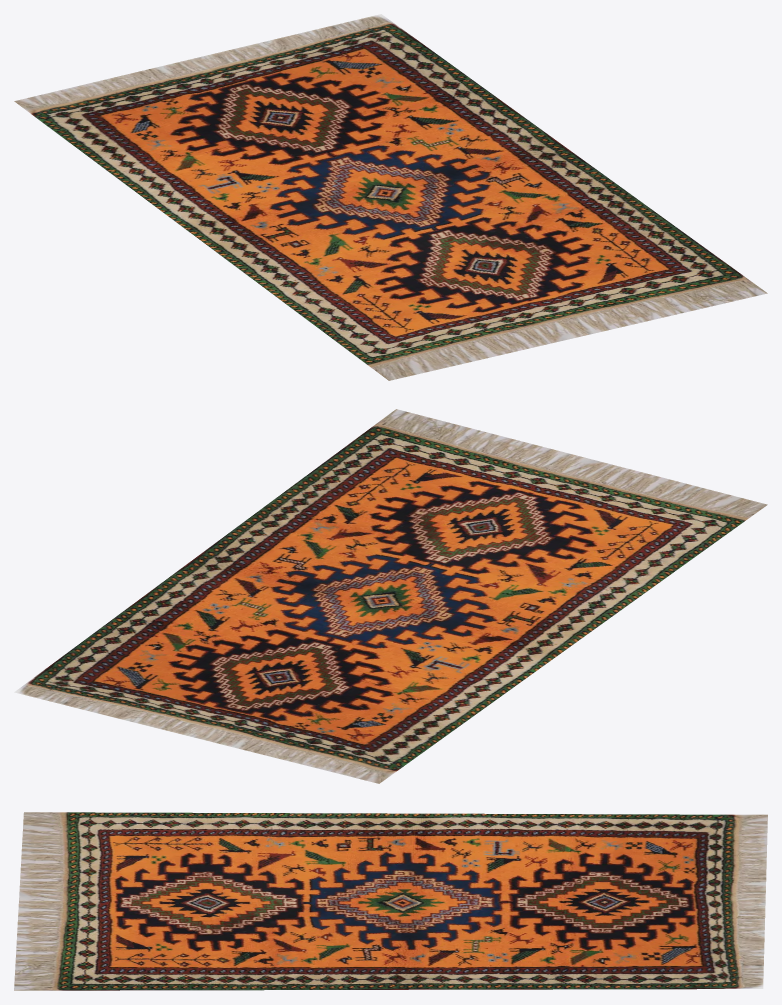
The model's file is rug2.glb.
3 views of the same model, one above another, from view 1: azimuth 30°, elevation 25°; view 2: azimuth 150°, elevation 25°; view 3: azimuth 270°, elevation 25° (orthographic). The views are drawn at different scales.
Visible parts, largest first — view 1: Object_2; view 2: Object_2; view 3: Object_2.
Part boxes in pixels (box(x1,y1,x2,y2)): Object_2: box(14, 14, 767, 380); Object_2: box(14, 409, 767, 783); Object_2: box(14, 812, 767, 990).
Size of the model in its own units: 205 by 8.13e-14 by 366.
Materials: 1 (1 with a texture image).
